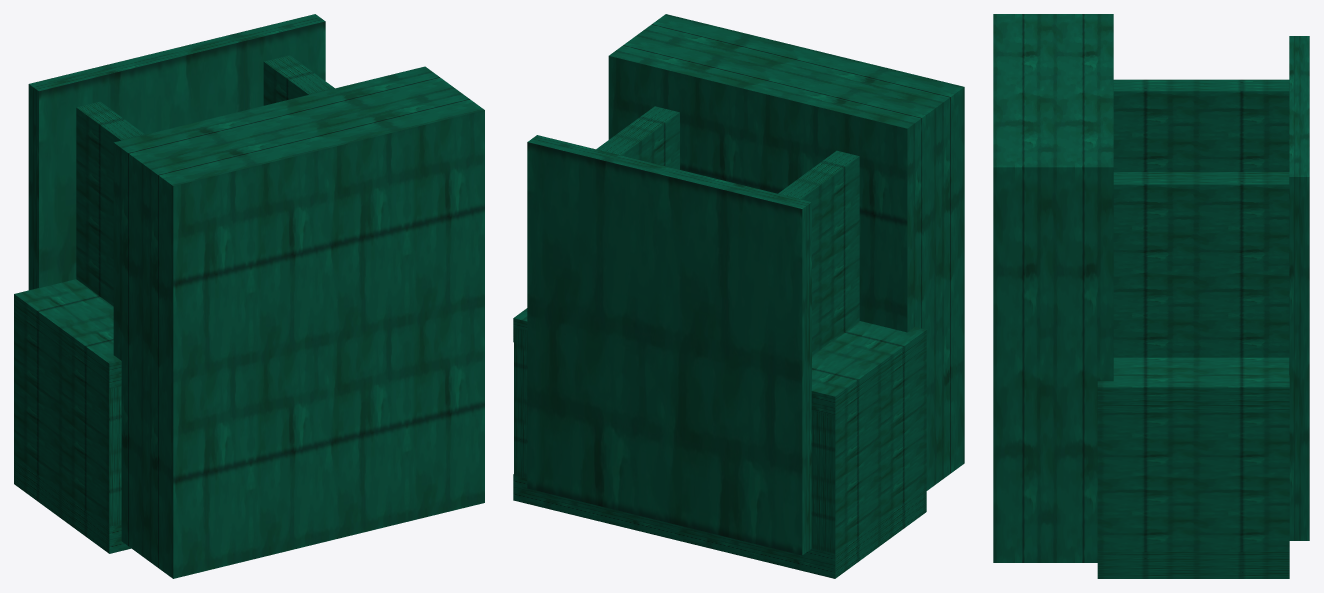
Rendered from room6_wtf.obj.
The picture shows the model from 3 angles, left to right: view 1: azimuth 30°, elevation 25°; view 2: azimuth 150°, elevation 25°; view 3: azimuth 270°, elevation 25°; orthographic projection. The views are drawn at different scales.
Parts seen in each view (by area): view 1: group2; view 2: group2; view 3: group2.
Boxes of the visible parts, bbox=[...] form: group2: bbox=[14, 14, 484, 578]; group2: bbox=[513, 14, 964, 578]; group2: bbox=[993, 14, 1309, 578].
Bounding box in the file's own units: 576 × 660 × 466.
